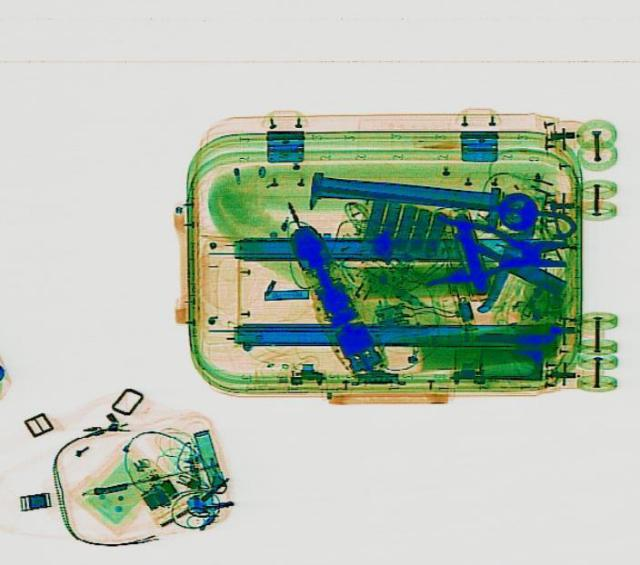Pliers: (423, 211, 571, 290)
